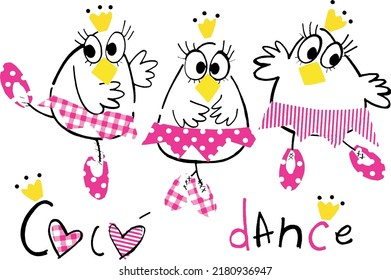bird: (257, 29, 390, 149), (154, 34, 252, 163), (51, 28, 148, 148)
